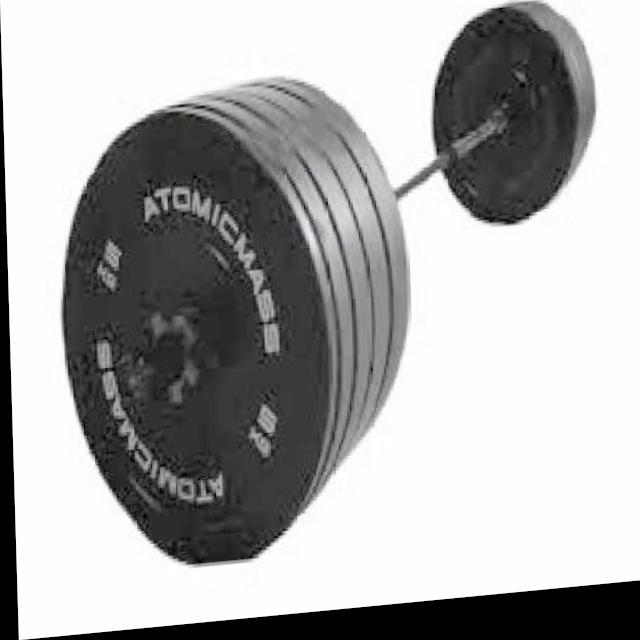barbell: (53, 93, 342, 588)
